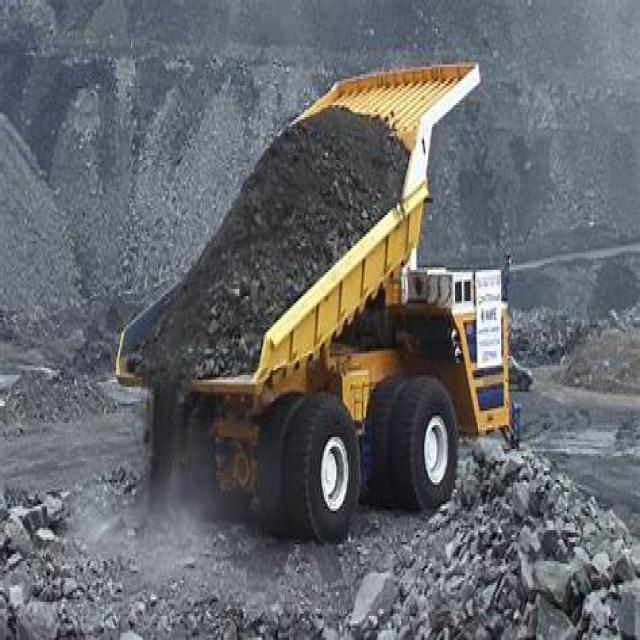dump_truck: (116, 36, 516, 525)
